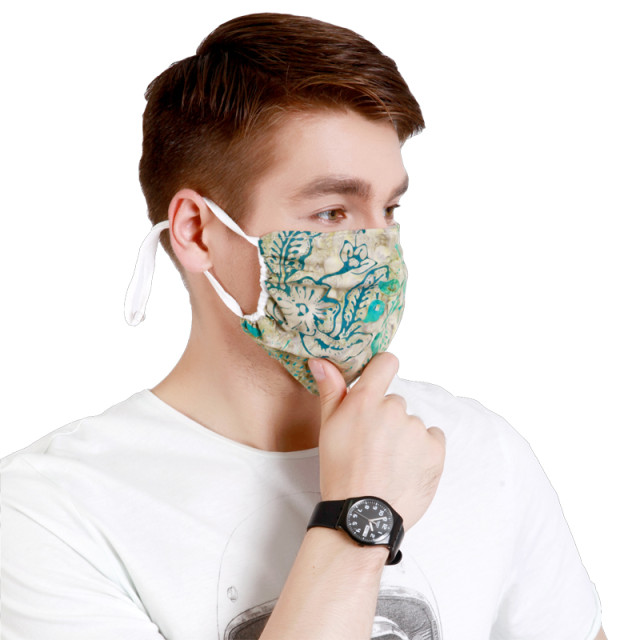face_mask: (247, 108, 409, 385)
